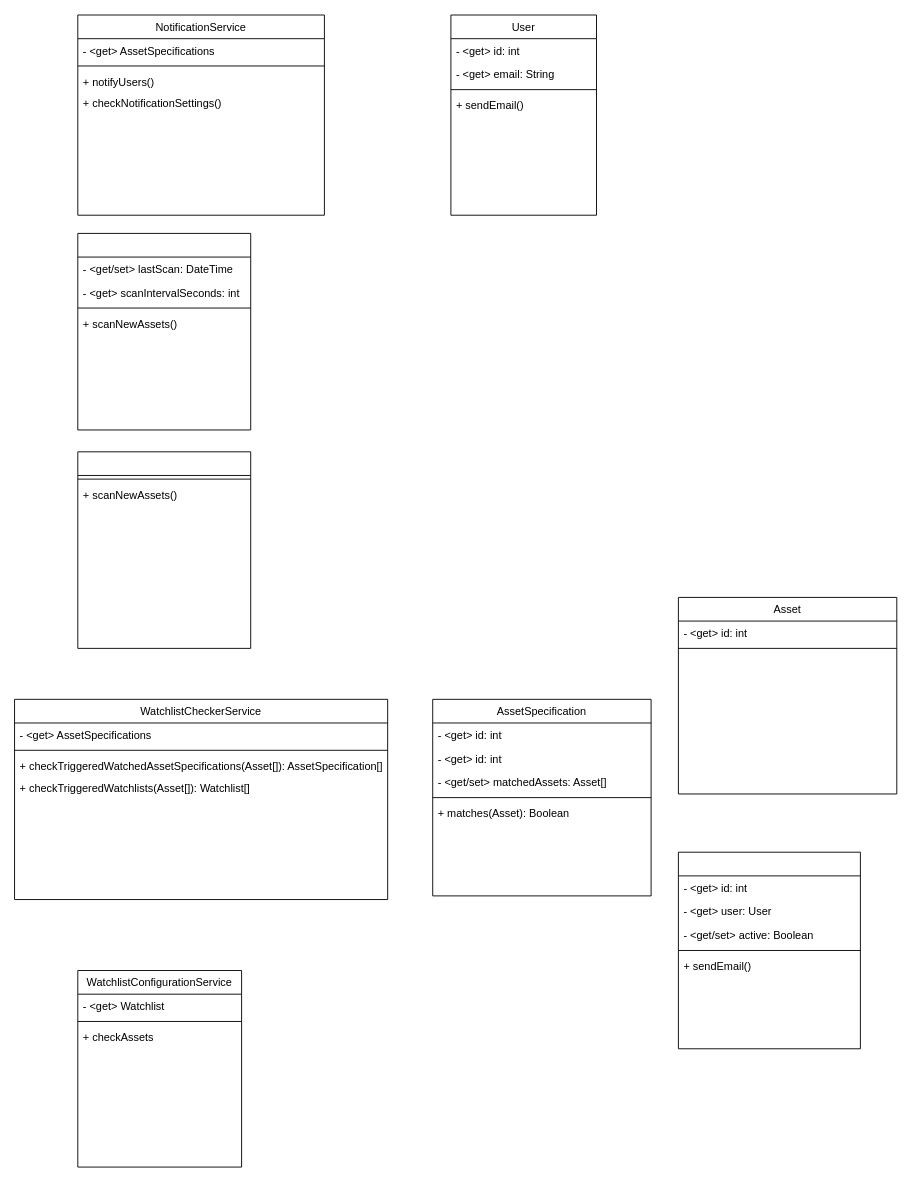
This 912x1182 diagram has some shape labels left out. Each missing label, with the box of its shape:
MarketplaceScannerCnftioService: (77, 451, 251, 648)
MarketplaceScannerService: (77, 233, 251, 430)
Watchlist: (677, 851, 860, 1049)
